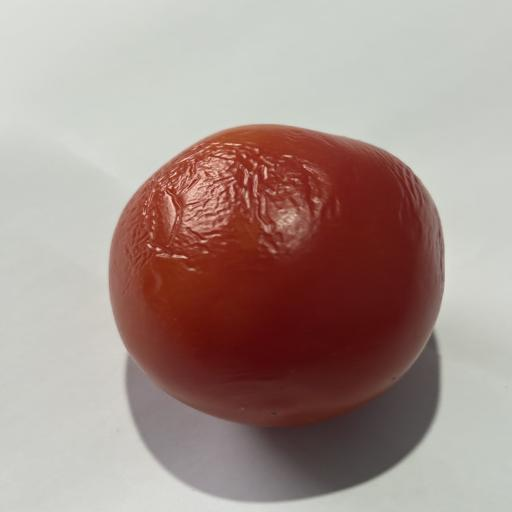spoiled: (109, 125, 444, 426)
